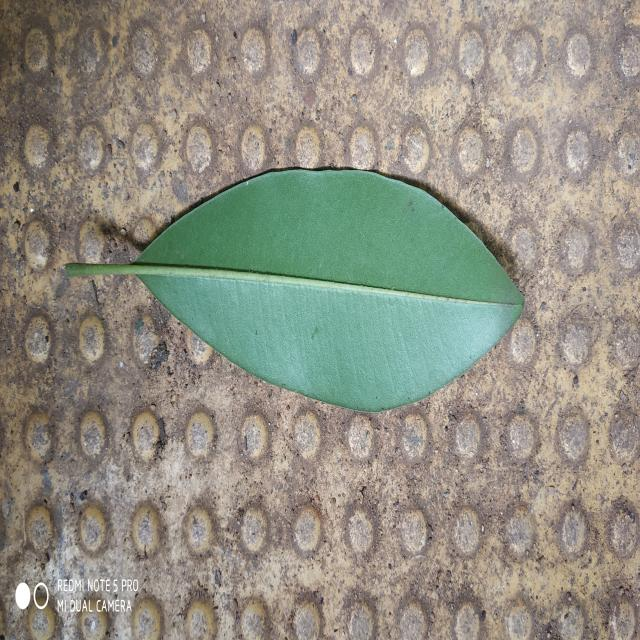sapota: (70, 169, 524, 411)
